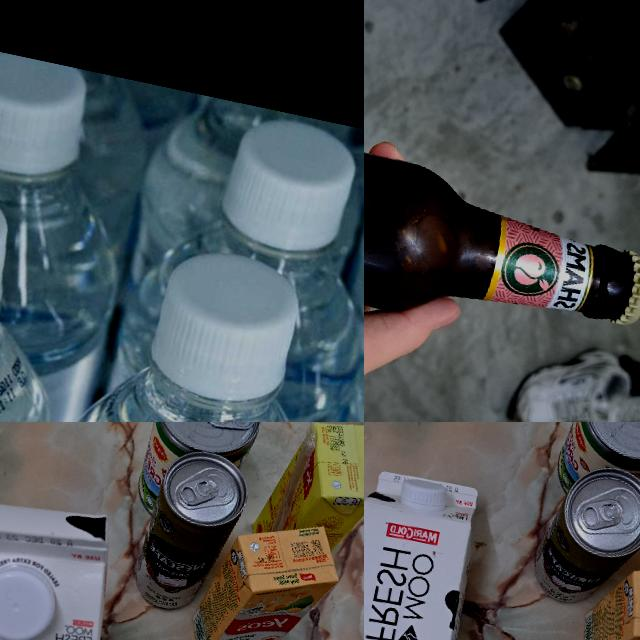aba de lata: (576, 494, 624, 534), (176, 472, 220, 510), (203, 422, 256, 434)
caixinha: (182, 503, 348, 640), (364, 463, 492, 640), (0, 478, 128, 640), (248, 422, 364, 562), (574, 546, 640, 640)
garrafa de vidro: (364, 86, 640, 364)
lata: (127, 442, 254, 621), (525, 454, 640, 617), (131, 422, 269, 533), (550, 422, 640, 517)
tampa plástica: (141, 240, 309, 414), (214, 108, 364, 263), (0, 47, 97, 185), (0, 558, 63, 640), (398, 476, 449, 514)
